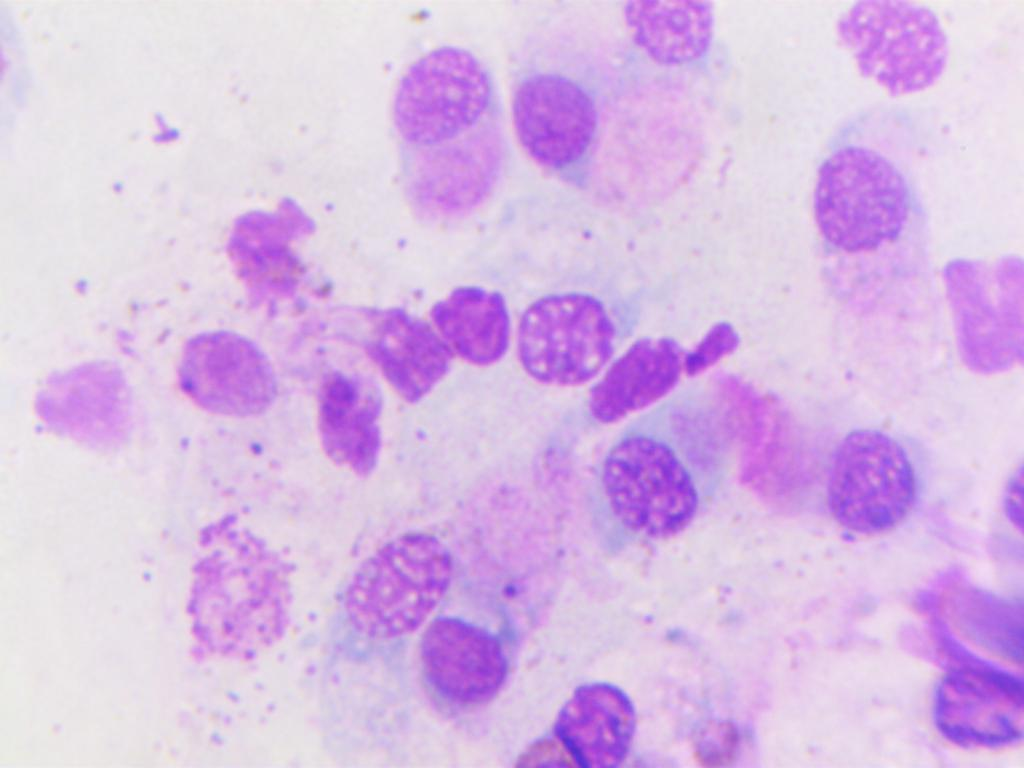artifact: (580, 313, 758, 428), (209, 201, 337, 320), (918, 643, 1024, 768), (942, 251, 1024, 407), (31, 362, 149, 468), (311, 362, 401, 488), (360, 292, 452, 400)
epithelial: (799, 136, 934, 304), (390, 45, 509, 233), (823, 0, 964, 109), (811, 413, 922, 544), (517, 254, 613, 387), (162, 324, 285, 423), (412, 614, 521, 725), (338, 526, 449, 634), (596, 430, 702, 541), (614, 0, 729, 74), (429, 277, 512, 369)
goblet_cell: (511, 69, 715, 203), (533, 676, 654, 768)
mast_cell: (156, 503, 321, 689)
